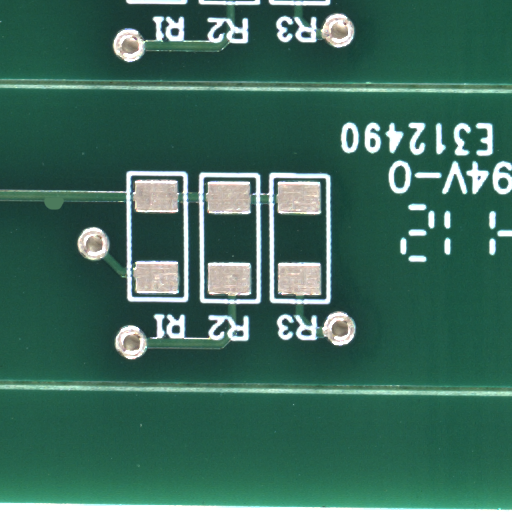Spur: (53, 204, 76, 216)
